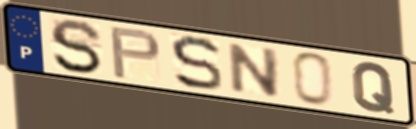0: (289, 50, 338, 108)
N: (228, 41, 282, 100)
P: (107, 25, 163, 81)
Q: (350, 60, 397, 116)
S: (47, 17, 105, 76), (168, 34, 225, 93)
